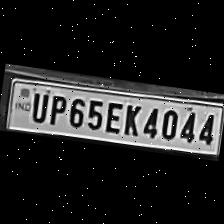0: (158, 104, 180, 140)
4: (194, 106, 218, 144), (138, 102, 162, 138), (176, 106, 200, 142)
5: (84, 94, 106, 129)
6: (64, 93, 88, 127)
E: (102, 97, 126, 133)
K: (119, 100, 144, 136)
P: (44, 90, 68, 126)
U: (26, 86, 50, 122)
